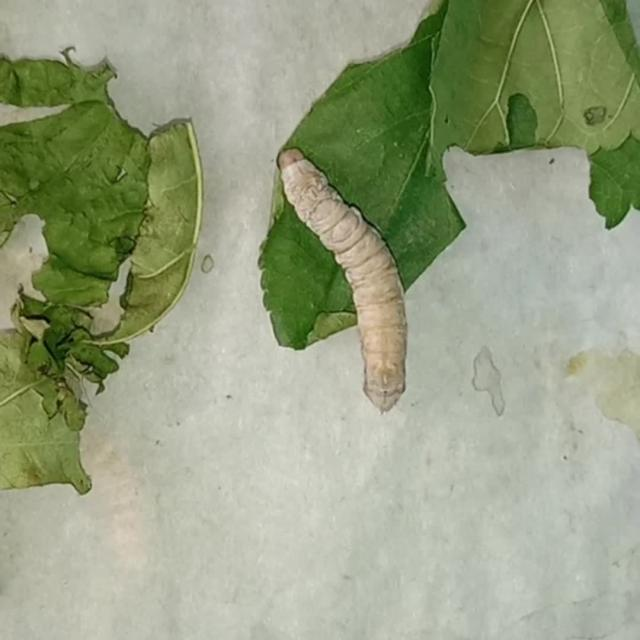Grasserie: (264, 136, 430, 421)
